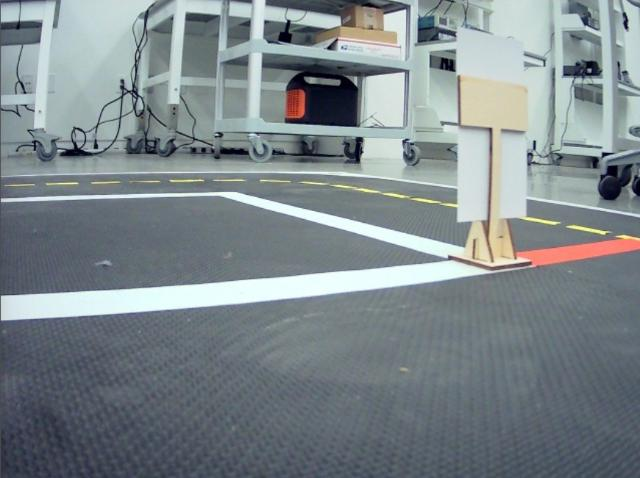redline: (517, 238, 640, 272)
whiteline: (0, 263, 490, 322), (216, 191, 467, 259), (0, 192, 237, 206)
yellowline: (300, 180, 640, 240), (0, 178, 290, 187)
